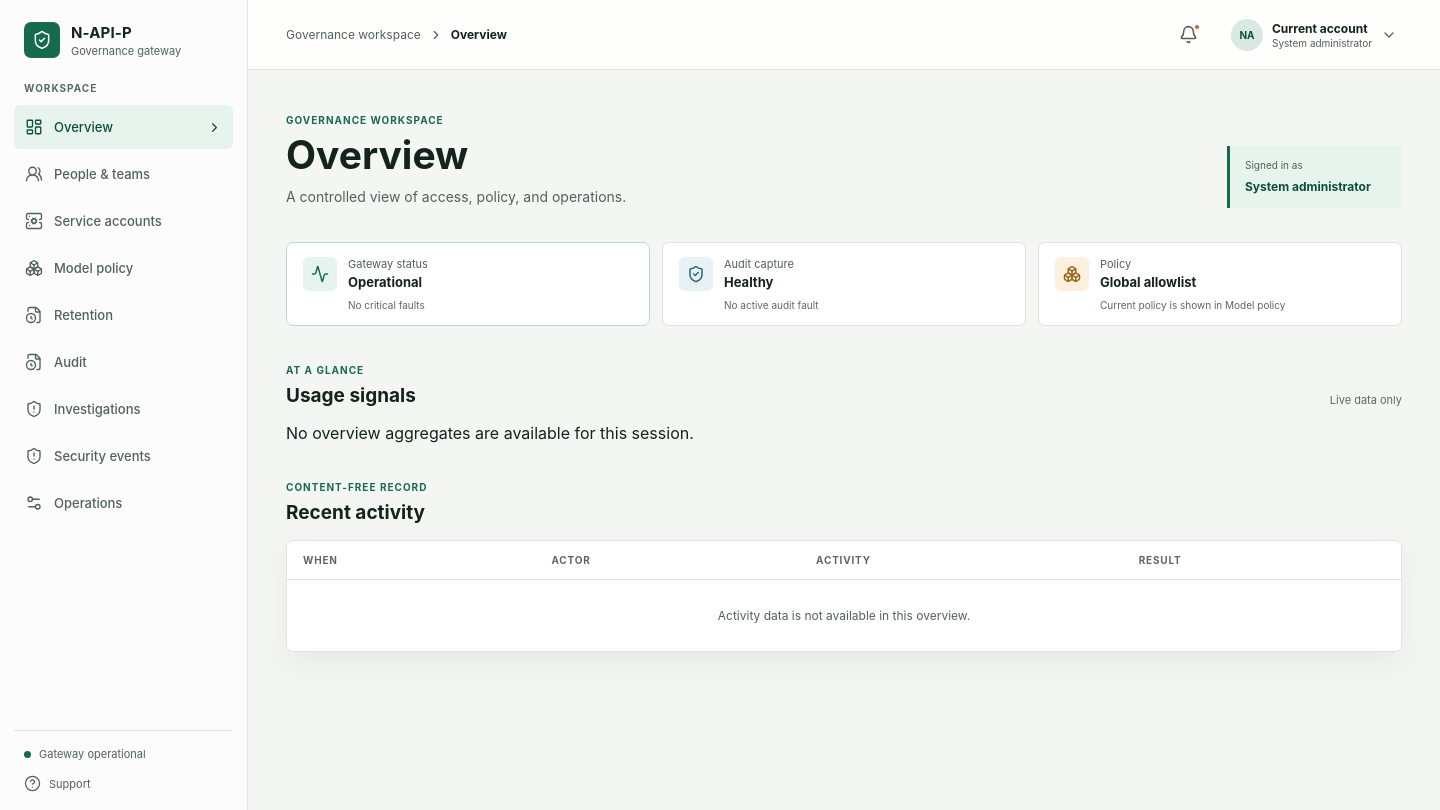
Test: audit workspace › classifies a failed audit request and retries successfully without a database false positive
Click the link "Audit" at (56, 362), box [25, 353, 87, 371]
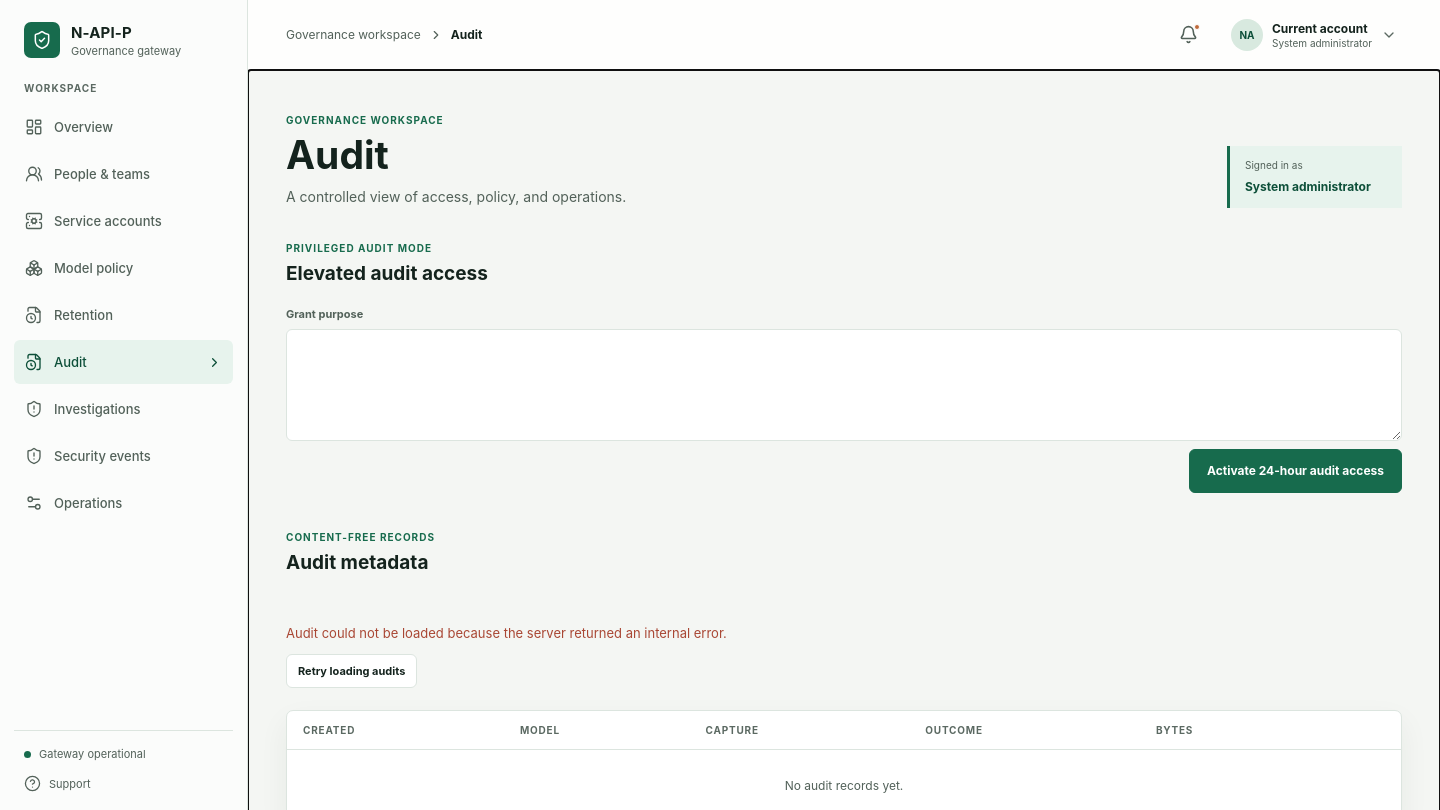
Result: the text "Audit could not be loaded because the server returned an internal error." is shown at [286, 625, 727, 641]
Click the button "Retry loading audits" at (352, 671), box [286, 654, 417, 688]
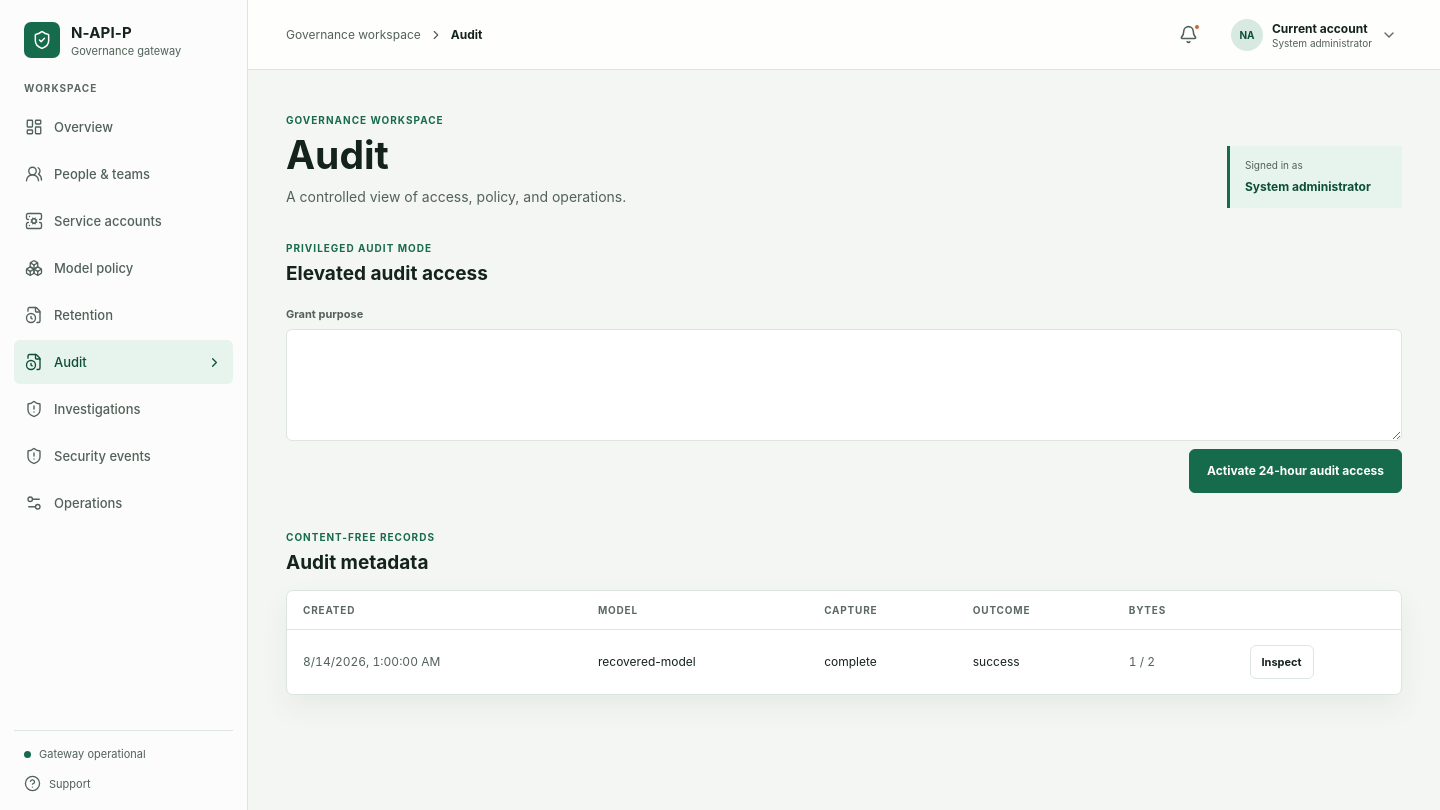
Result: the text "recovered-model" is shown at [582, 629, 808, 694]
